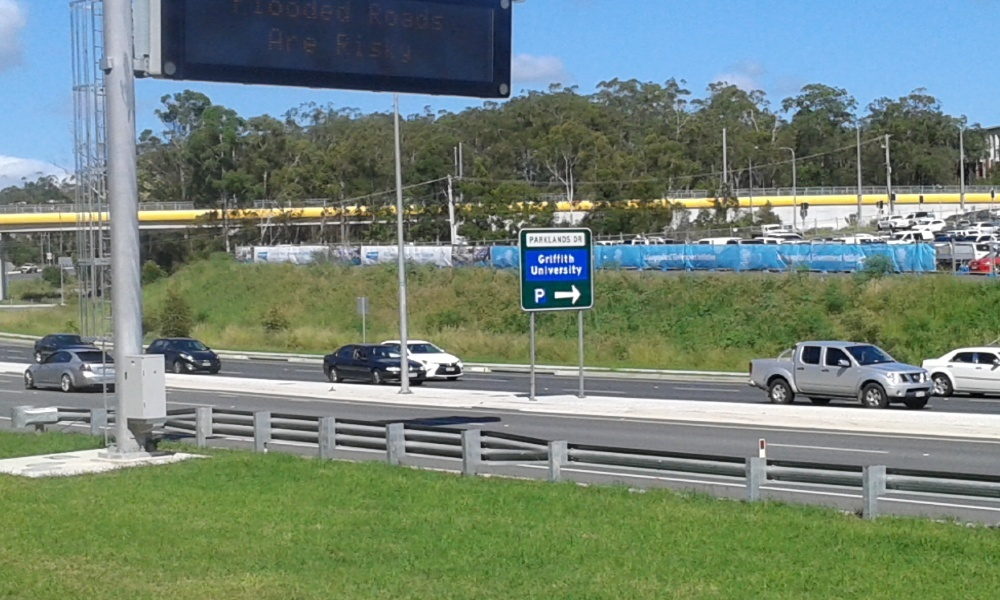text: (337, 25, 352, 68), (353, 25, 368, 68), (369, 25, 384, 68), (385, 25, 400, 68), (401, 25, 416, 68), (305, 22, 321, 56), (369, 1, 384, 36), (385, 1, 400, 36), (401, 1, 416, 36), (417, 1, 432, 36), (433, 1, 448, 36), (273, 22, 288, 56), (289, 22, 304, 56), (241, 2, 256, 23), (257, 2, 272, 23), (273, 2, 288, 23), (289, 2, 304, 23), (305, 2, 320, 23), (321, 2, 336, 23), (337, 2, 352, 23), (228, 2, 240, 23), (266, 22, 272, 56), (545, 265, 560, 277), (561, 265, 576, 277), (545, 254, 560, 265), (534, 288, 544, 304), (531, 265, 544, 277), (561, 254, 575, 265), (545, 236, 560, 244), (530, 236, 544, 244), (334, 25, 336, 68), (577, 265, 584, 277), (561, 236, 571, 244), (537, 254, 544, 265), (353, 2, 356, 23), (417, 25, 418, 68), (577, 236, 582, 244), (545, 288, 547, 304), (574, 236, 576, 244)
